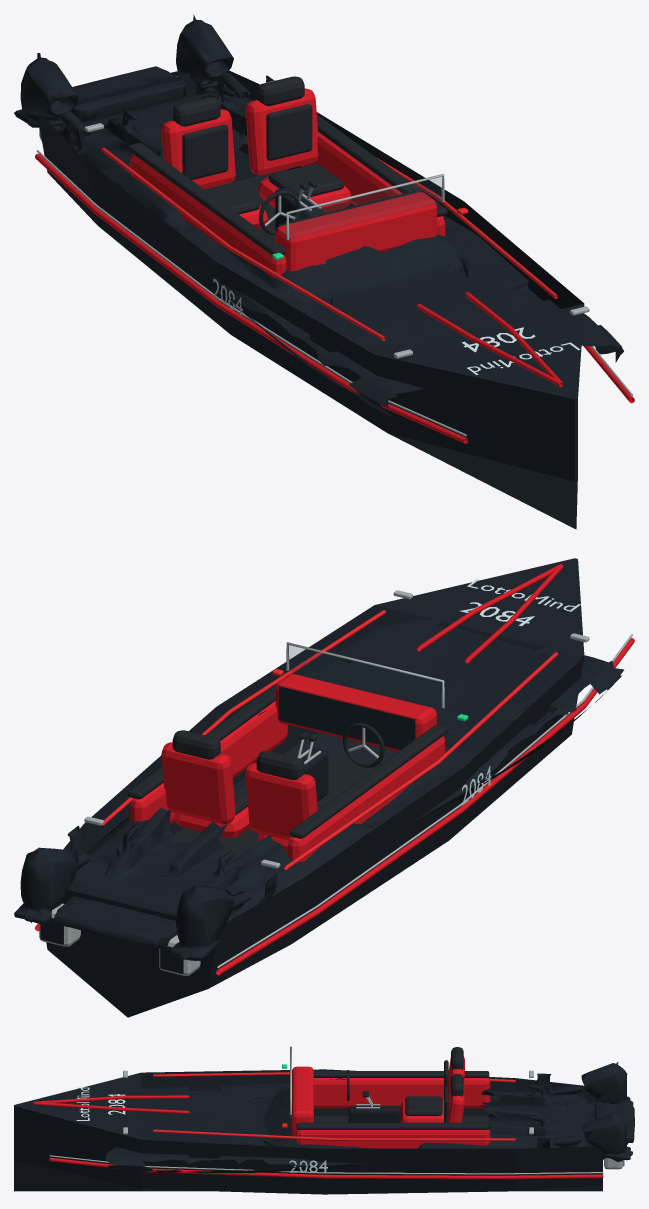
File: speedboat.glb
3 renders of one model, top to bottom at view 1: azimuth 30°, elevation 25°; view 2: azimuth 150°, elevation 25°; view 3: azimuth 270°, elevation 25°, orthographic. The views are drawn at different scales.
Parts seen in each view (by area): view 1: Speedboat_2084 matte carbon fiber, Speedboat_2084 crimson marine paint, Speedboat_Charcoal marine upholstery, Speedboat_Smoked windscreen, Speedboat_Brushed aluminium, Speedboat_2084 red accent paint, Decal_LottoMind_2084; view 2: Speedboat_2084 matte carbon fiber, Speedboat_2084 crimson marine paint, Speedboat_Charcoal marine upholstery, Cockpit_Display, Speedboat_Smoked windscreen, Speedboat_Brushed aluminium, Speedboat_2084 red accent paint, Decal_LottoMind_2084; view 3: Speedboat_2084 matte carbon fiber, Speedboat_2084 crimson marine paint, Speedboat_Charcoal marine upholstery, Speedboat_2084 red accent paint, Speedboat_Brushed aluminium, Decal_LottoMind_2084.
Boxes of the visible parts, bbox=[...] form: Speedboat_2084 matte carbon fiber: bbox=[14, 14, 623, 529]; Speedboat_2084 crimson marine paint: bbox=[35, 88, 634, 443]; Speedboat_Charcoal marine upholstery: bbox=[128, 76, 447, 255]; Speedboat_Smoked windscreen: bbox=[289, 177, 441, 238]; Speedboat_Brushed aluminium: bbox=[36, 76, 632, 436]; Speedboat_2084 red accent paint: bbox=[101, 147, 558, 340]; Decal_LottoMind_2084: bbox=[213, 278, 580, 374]; Speedboat_2084 matte carbon fiber: bbox=[14, 558, 623, 1017]; Speedboat_2084 crimson marine paint: bbox=[35, 564, 634, 975]; Speedboat_Charcoal marine upholstery: bbox=[128, 685, 447, 861]; Cockpit_Display: bbox=[279, 686, 415, 749]; Speedboat_Smoked windscreen: bbox=[289, 645, 441, 707]; Speedboat_Brushed aluminium: bbox=[36, 590, 632, 975]; Speedboat_2084 red accent paint: bbox=[102, 610, 558, 869]; Decal_LottoMind_2084: bbox=[459, 579, 580, 805]; Speedboat_2084 matte carbon fiber: bbox=[14, 1062, 634, 1194]; Speedboat_2084 crimson marine paint: bbox=[33, 1056, 603, 1179]; Speedboat_Charcoal marine upholstery: bbox=[287, 1047, 489, 1129]; Speedboat_2084 red accent paint: bbox=[153, 1072, 515, 1141]; Speedboat_Brushed aluminium: bbox=[49, 1046, 622, 1174]; Decal_LottoMind_2084: bbox=[76, 1087, 327, 1172].
Size of the model in its own units: 2.4 by 1.74 by 7.8.
